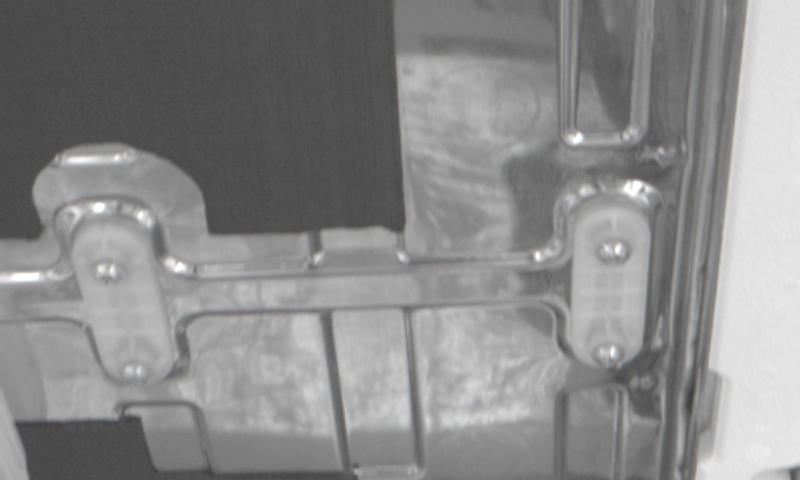vida-ok: (593, 234, 639, 278), (84, 249, 130, 293), (114, 353, 159, 393), (588, 335, 634, 374)
